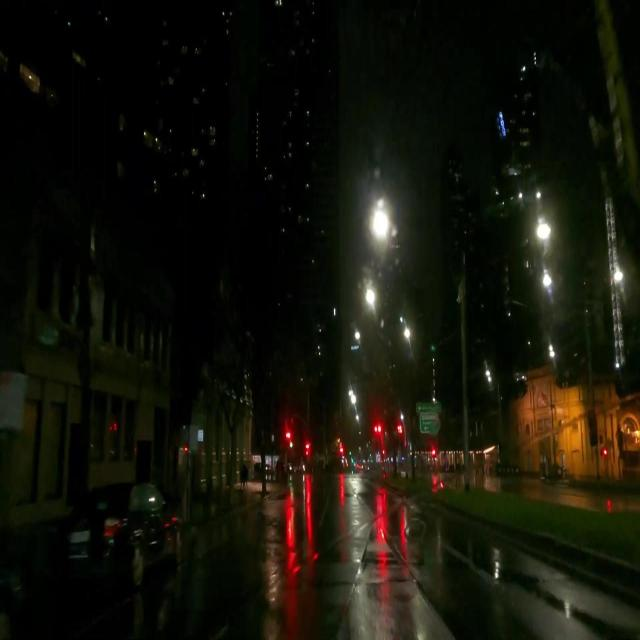Car: (65, 485, 182, 583)
